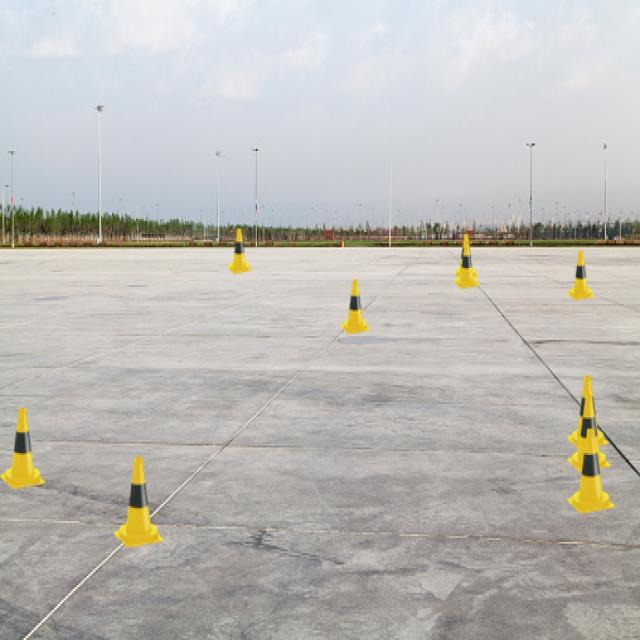yellow_cone: (113, 457, 164, 547), (567, 428, 615, 514), (0, 408, 45, 489), (567, 395, 611, 472), (567, 376, 608, 449), (340, 280, 370, 334), (567, 251, 595, 300), (454, 242, 480, 289), (227, 228, 252, 274), (454, 234, 478, 280)
